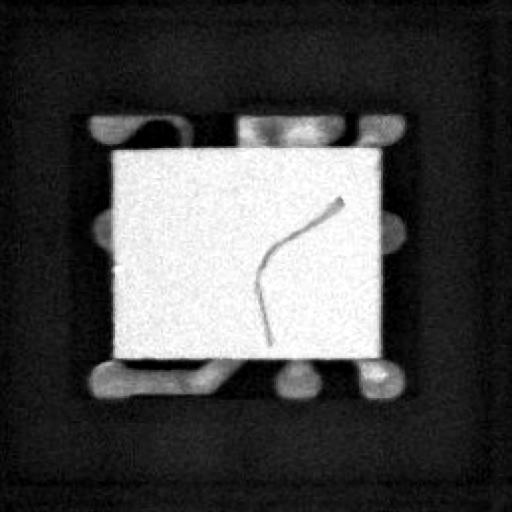DIE_INK: (237, 202, 326, 362)
